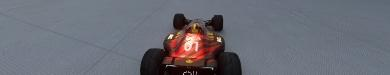Car: (139, 13, 242, 74)
grass: (0, 0, 389, 74)
